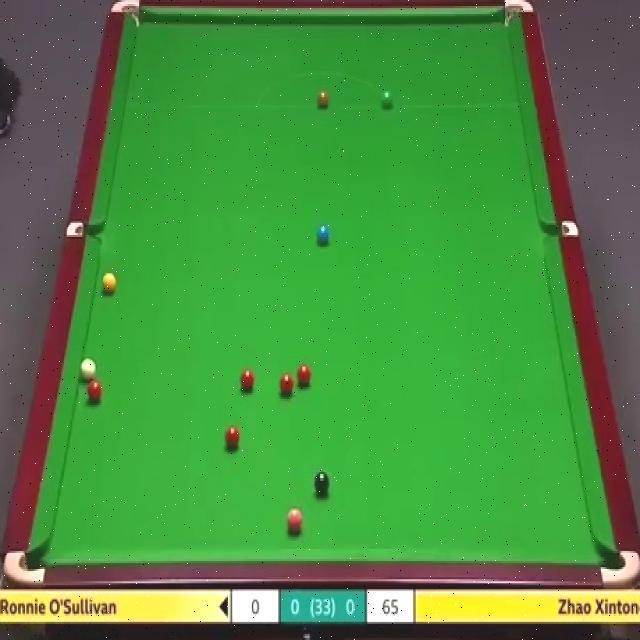black-ball: (314, 470, 331, 492)
blue-ball: (315, 223, 331, 247)
brown-ball: (317, 86, 329, 108)
green-ball: (378, 87, 395, 110)
pink-ball: (284, 508, 303, 533)
red-ball: (226, 424, 242, 452), (294, 364, 312, 387), (278, 373, 294, 398), (240, 367, 256, 391), (89, 380, 104, 405)
white-ball: (80, 355, 96, 382)
yellow-ball: (99, 269, 118, 294)
